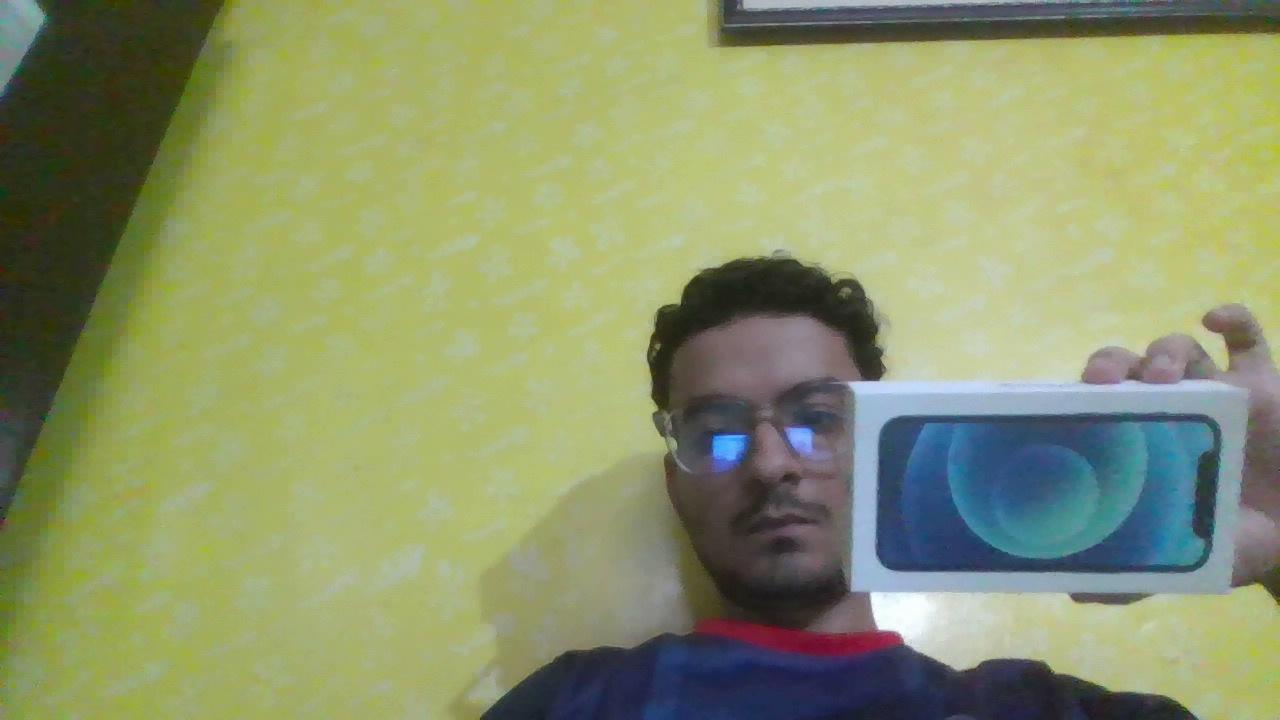Phone: (829, 365, 1257, 607)
